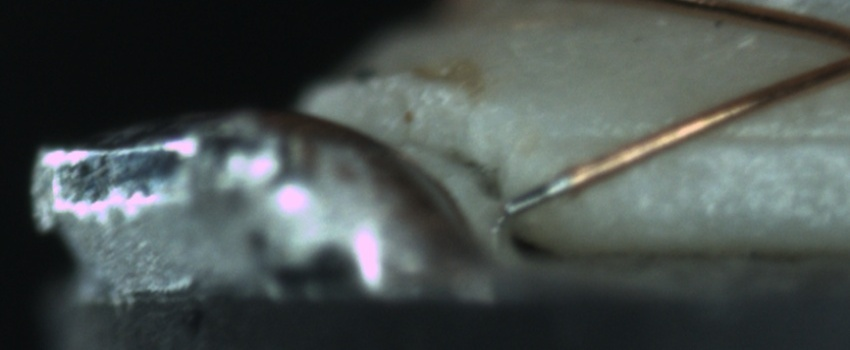DL: (555, 104, 850, 168)
TS: (504, 172, 570, 212)
